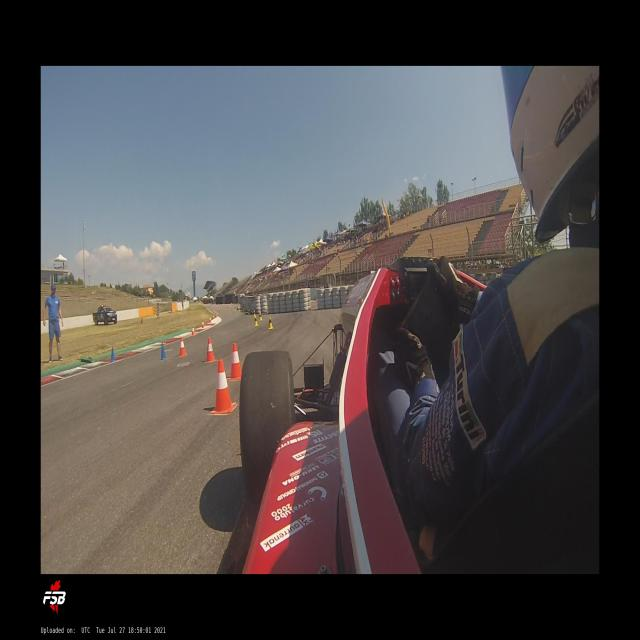orange_cone: (210, 359, 236, 414), (228, 344, 241, 379), (206, 337, 216, 363), (179, 337, 186, 356), (192, 326, 195, 336), (202, 321, 204, 328), (209, 318, 211, 322)
unknown_cone: (161, 343, 166, 360), (111, 347, 116, 362)
yellow_cone: (268, 316, 273, 329), (254, 316, 258, 327), (259, 312, 262, 321), (254, 310, 256, 318)
